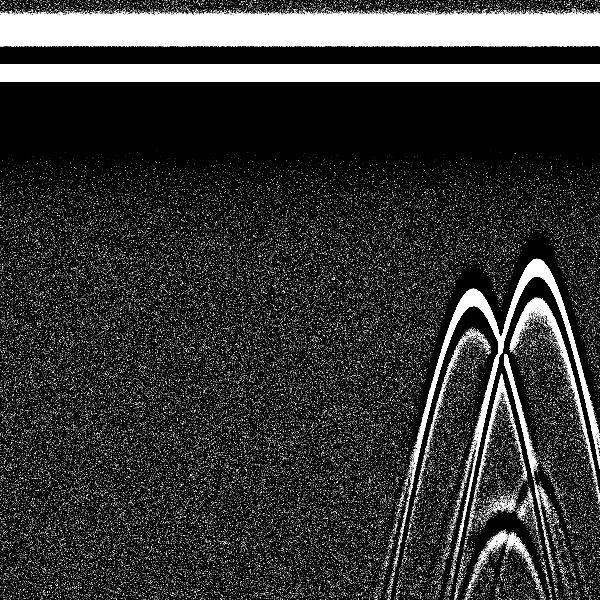pipe: (425, 6, 520, 375), (495, 4, 582, 341)
